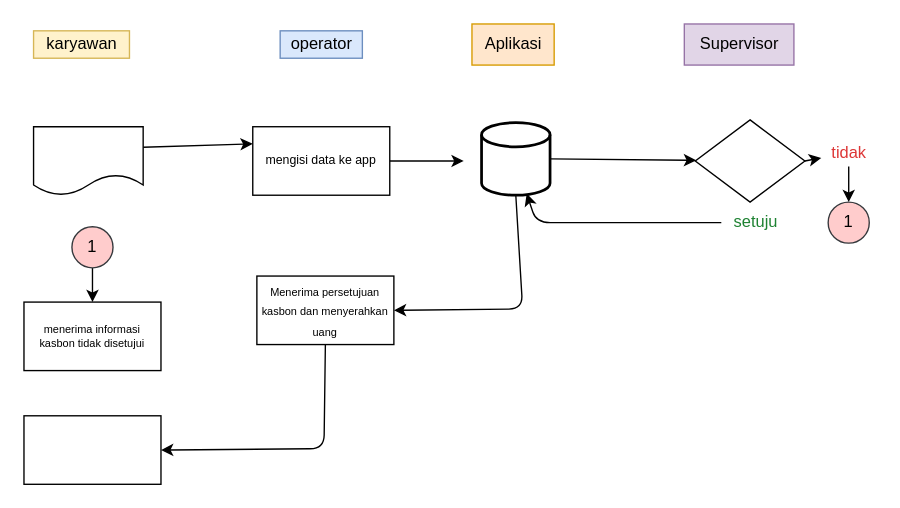
The diagram is 900 pixels wide and 508 high, and some of its shapes have lost their labels. The shapes that lost their labels are listed below. From the top down, each one's centre as x and y in pixels, then its label:
pixel 87 160: mengajukan Kasbon
pixel 515 158: App
pixel 749 160: Kasbon
pixel 92 449: Menerima Uang
